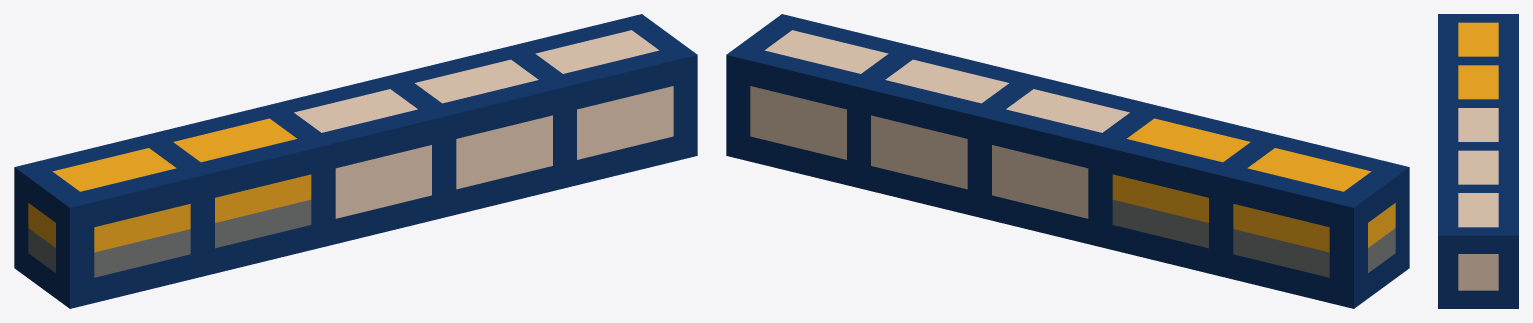
Rendered from segmeter_2.gltf.
3 views of the same model, side by side, from view 1: azimuth 30°, elevation 25°; view 2: azimuth 150°, elevation 25°; view 3: azimuth 270°, elevation 25° (orthographic). The views are drawn at different scales.
Bounding box in the file's own units: 2.6 × 0.4 × 0.4.
Materials: 1 (1 with a texture image).
